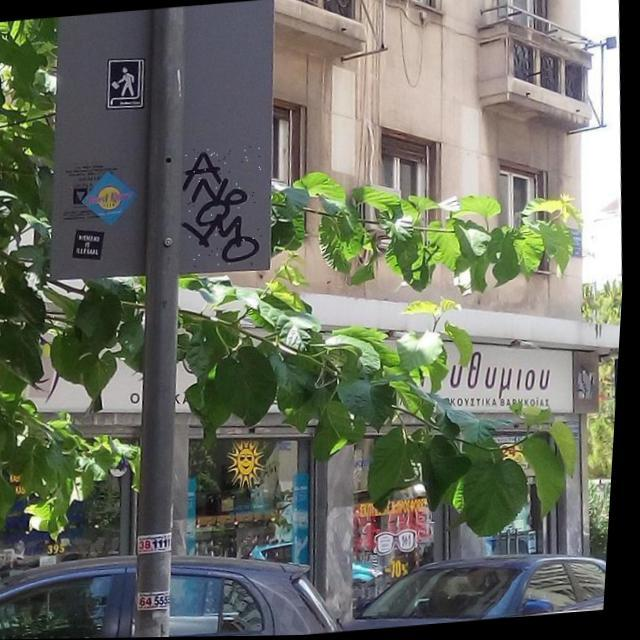-: (178, 144, 270, 268)
